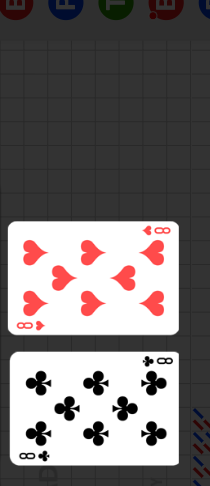8C: (141, 355, 175, 369)
8H: (140, 224, 172, 237)
